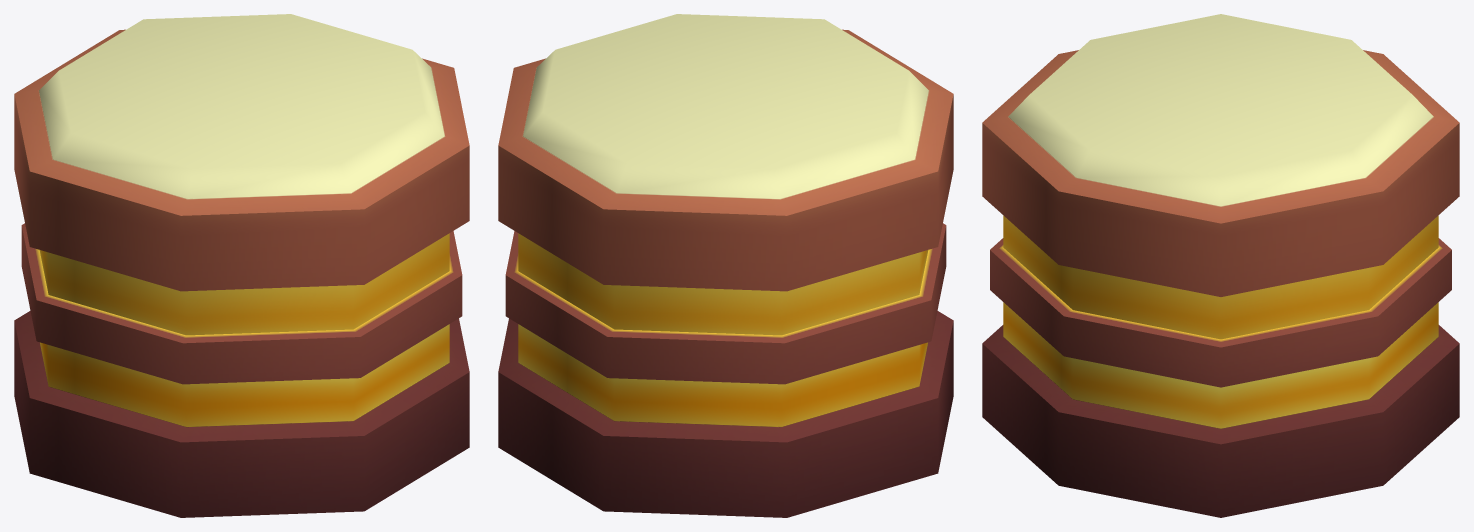
Rendered from model_ped.fbx.
The picture shows the model from 3 angles, left to right: view 1: azimuth 30°, elevation 25°; view 2: azimuth 150°, elevation 25°; view 3: azimuth 270°, elevation 25°; orthographic projection. The views are drawn at different scales.
Visible parts, largest first — view 1: ped; view 2: ped; view 3: ped.
Part boxes in pixels (left/top/right/bottom): ped: left=14, top=14, right=469, bottom=517; ped: left=498, top=14, right=953, bottom=517; ped: left=982, top=14, right=1459, bottom=517.
Size of the model in its own units: 1.47 by 1.09 by 1.47.
